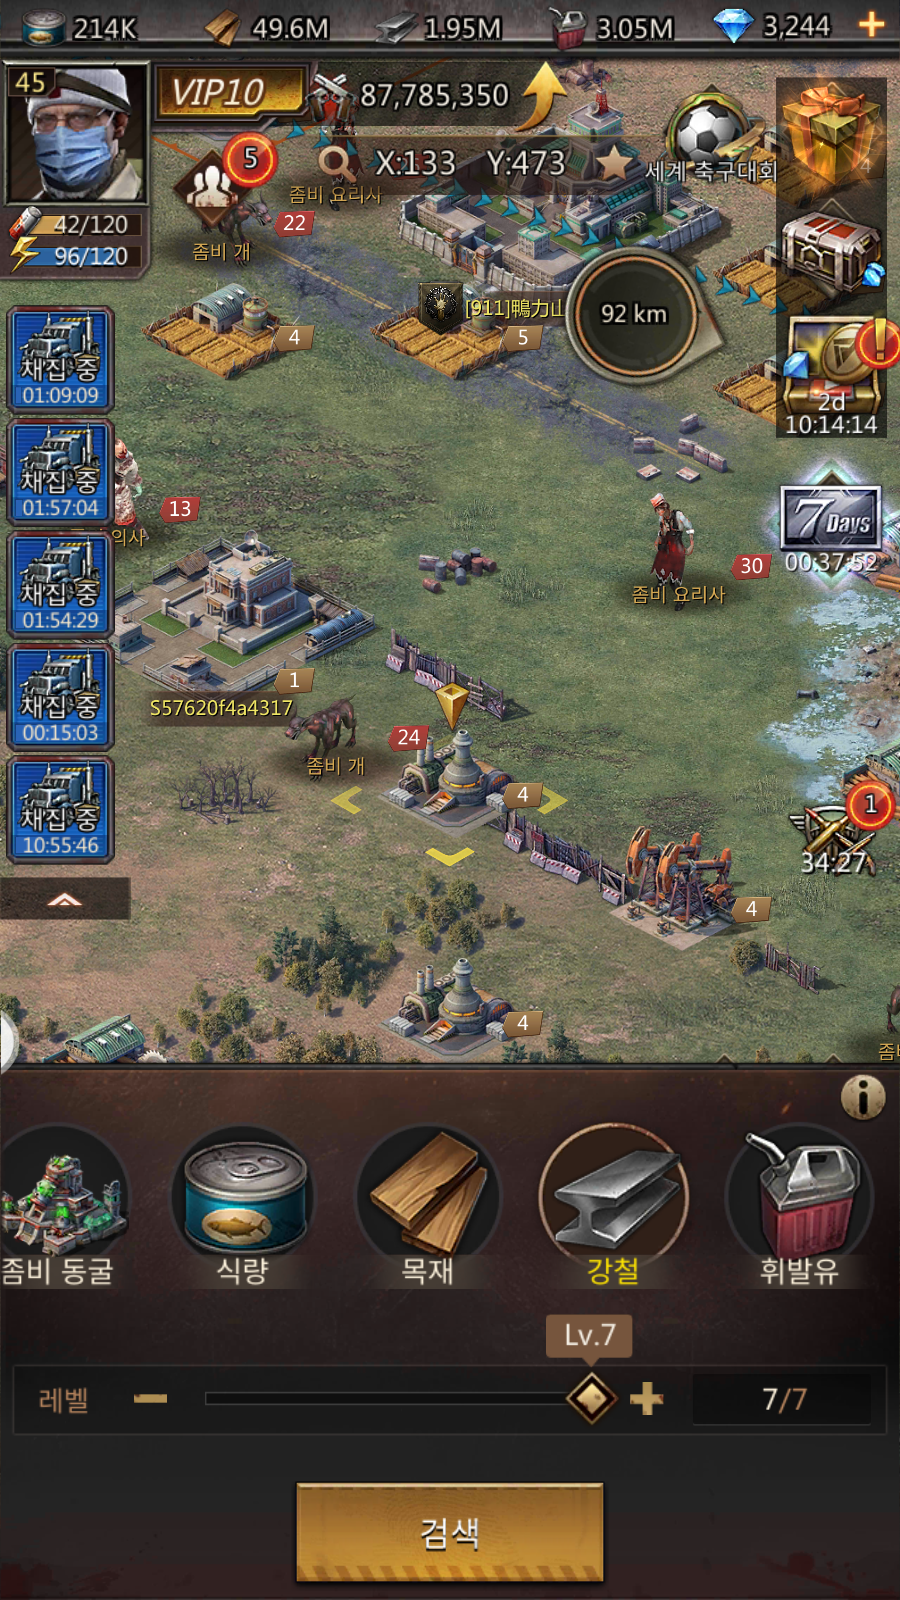empty_steel: (333, 667, 575, 889)
rss_food_in_panel: (165, 1120, 320, 1296)
rss_gas_in_panel: (722, 1118, 878, 1302)
rss_lv7: (542, 1316, 638, 1356)
rss_search_in_panel: (298, 1485, 604, 1575)
rss_steel_in_panel: (538, 1120, 698, 1295)
rss_wood_in_panel: (351, 1124, 504, 1295)
troops_cnt_5: (164, 118, 284, 245)
